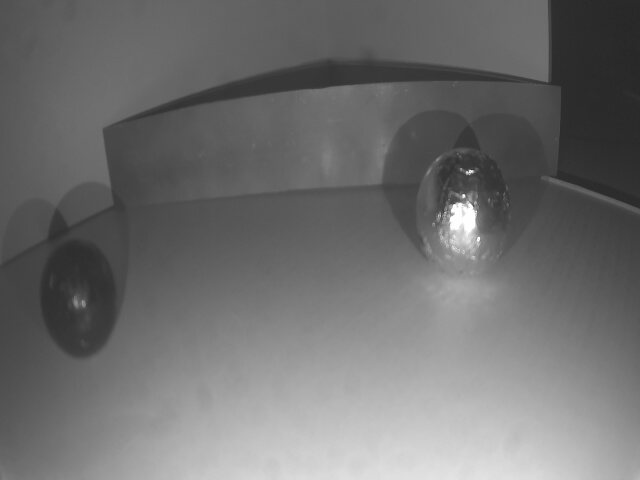Dead: (39, 247, 119, 358)
Green: (101, 82, 557, 208)
Live: (417, 149, 514, 278)
